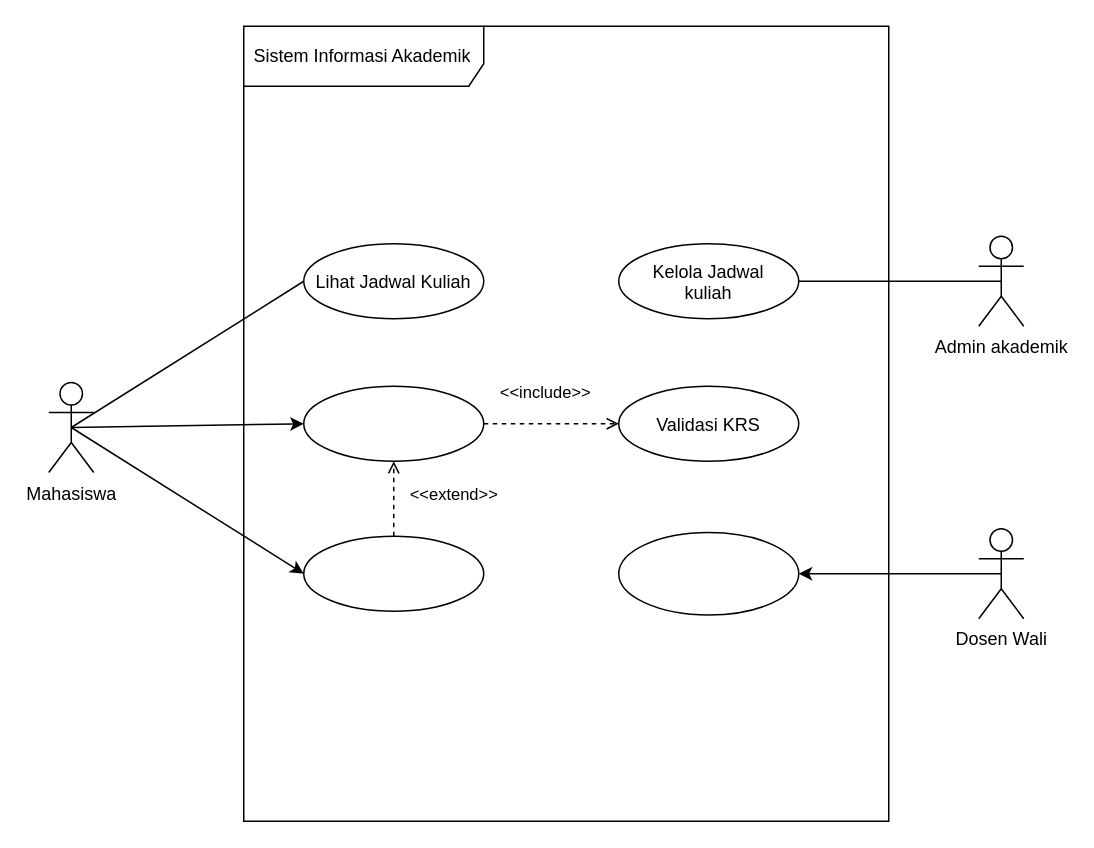
Image size: 1094x848. Some labels were removed from this diagram. Each missing label, with the box of its shape:
Ajukan KRS: (302, 385, 484, 461)
Proses persetujuan/ penolakan KRS: (617, 531, 799, 615)
Unduh bukti pengajuan: (302, 535, 484, 611)
